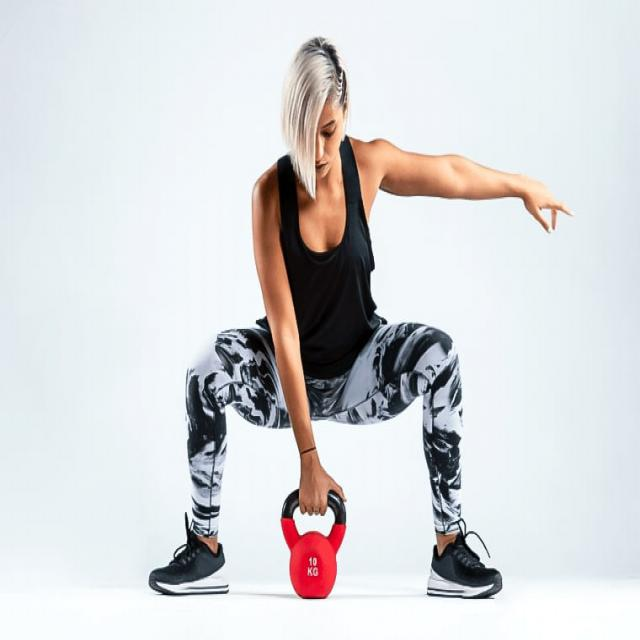Kettlebell: (275, 474, 352, 608)
